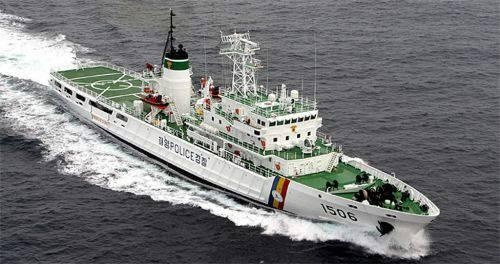warship: (47, 4, 443, 243)
